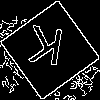K: (25, 25, 66, 76)
